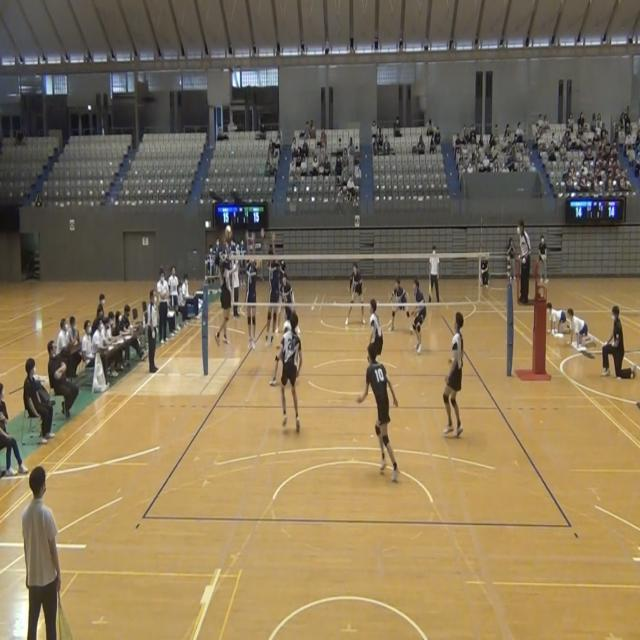spike: (210, 226, 239, 356)
